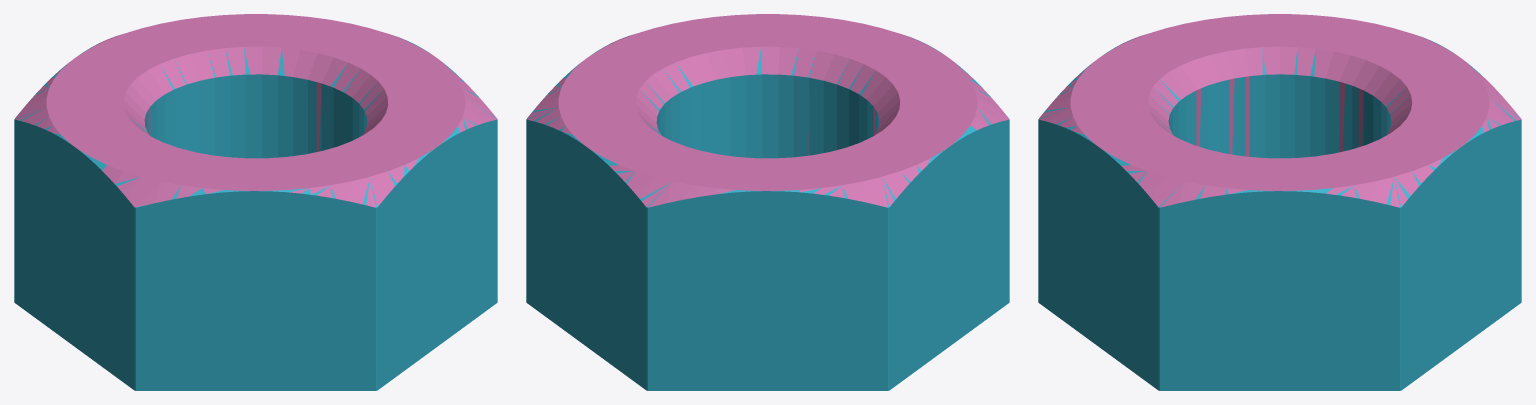
The model's file is M12_Nut_.dae.
3 views of the same model, side by side, from view 1: azimuth 30°, elevation 25°; view 2: azimuth 150°, elevation 25°; view 3: azimuth 270°, elevation 25° (orthographic).
Parts seen in each view (by area): view 1: M12_Nut; view 2: M12_Nut; view 3: M12_Nut.
Part boxes in pixels (x1,y1,x2,y2): M12_Nut: (14, 14, 497, 390); M12_Nut: (526, 14, 1009, 390); M12_Nut: (1038, 14, 1521, 390).
Size of the model in its own units: 0.019 by 0.0219 by 0.01.
